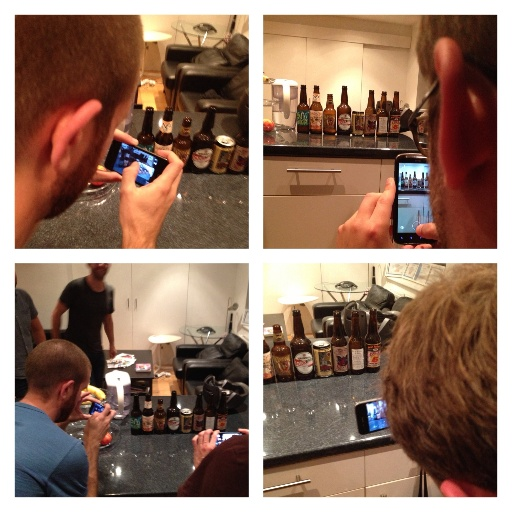hand: (100, 133, 193, 251), (333, 176, 411, 249), (88, 128, 138, 185), (83, 401, 118, 445), (64, 389, 101, 424), (189, 428, 218, 470), (416, 220, 444, 248)
